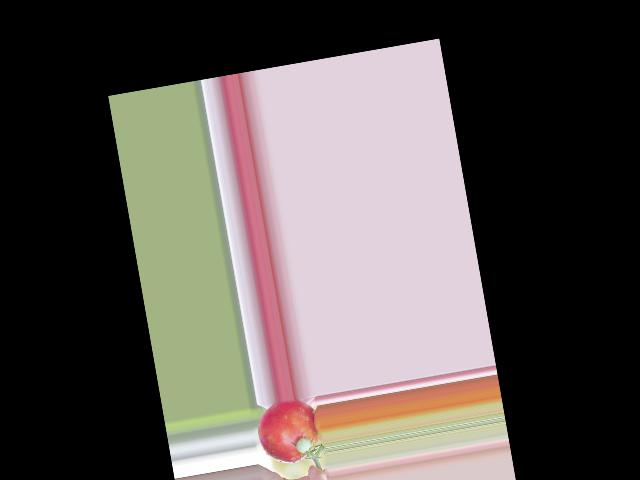tomato: (253, 395, 322, 468)
